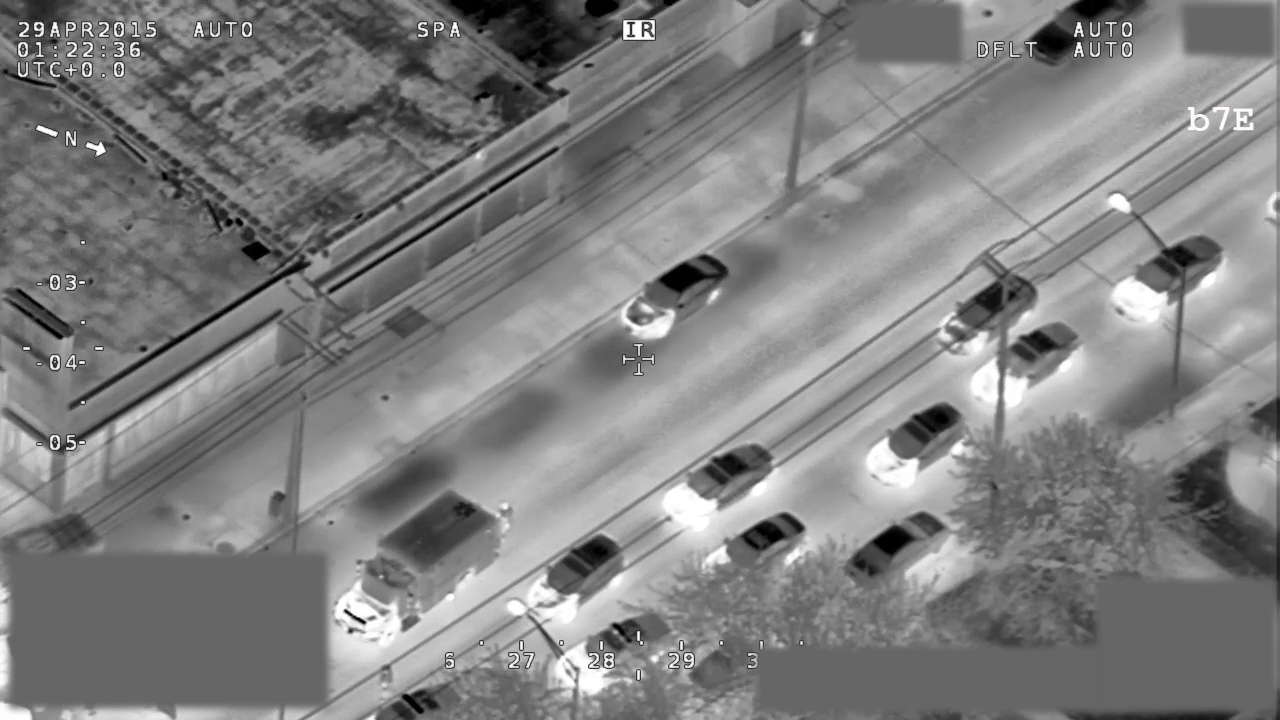vehicle: (330, 484, 516, 647), (1109, 234, 1226, 328), (552, 610, 676, 698), (658, 439, 776, 528), (618, 249, 733, 336), (526, 530, 630, 623), (971, 321, 1082, 407), (934, 272, 1040, 359), (865, 400, 968, 486), (1021, 1, 1150, 69), (845, 508, 949, 591), (704, 509, 807, 590), (348, 686, 469, 720)
